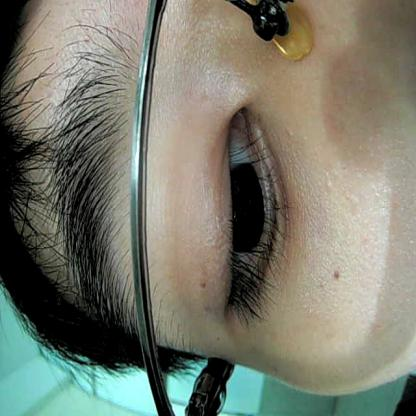Down: (193, 92, 296, 327)
